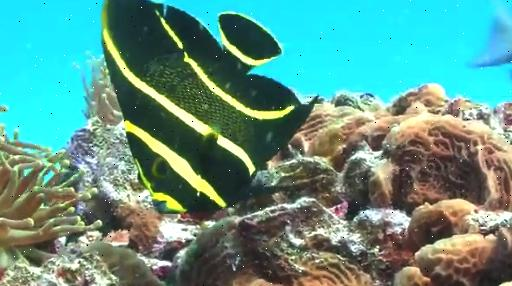Fish: (102, 0, 316, 213), (471, 1, 511, 68)
